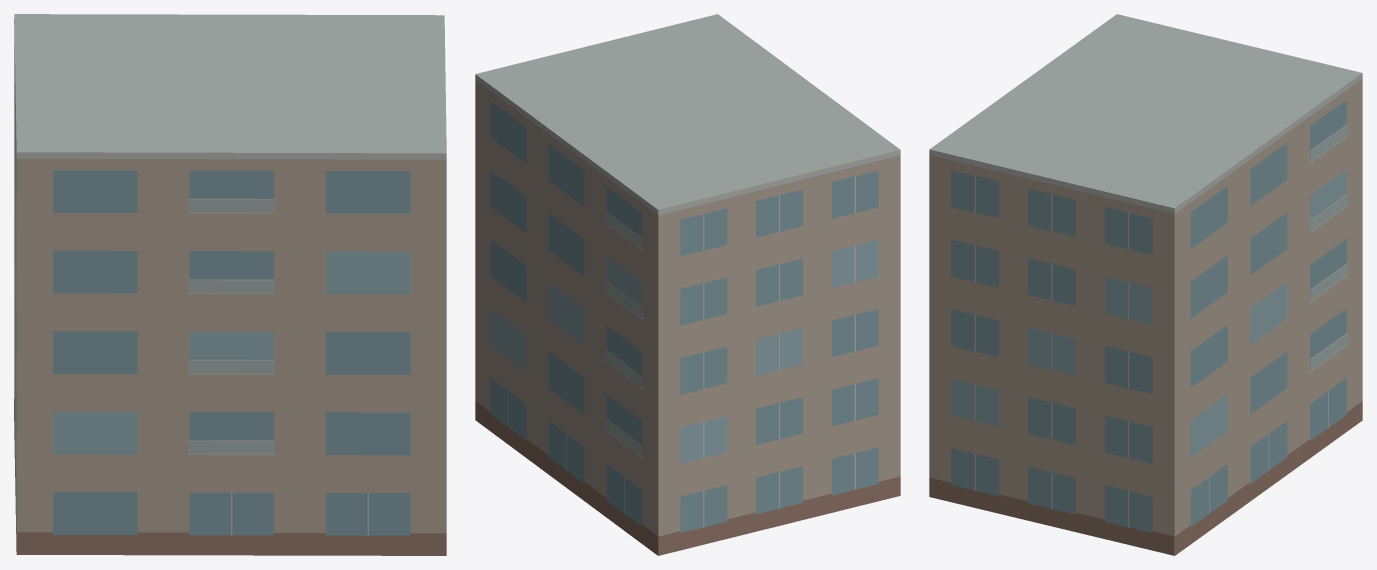
File: survey-upis-32925901.glb
The picture shows the model from 3 angles, left to right: view 1: azimuth 30°, elevation 25°; view 2: azimuth 150°, elevation 25°; view 3: azimuth 270°, elevation 25°; orthographic projection. The views are drawn at different scales.
Visible parts, largest first — view 1: survey-upis-32925901.tmp; view 2: survey-upis-32925901.tmp; view 3: survey-upis-32925901.tmp.
Boxes of the visible parts, <box> form: survey-upis-32925901.tmp: <box>14,14,446,555</box>; survey-upis-32925901.tmp: <box>475,14,900,555</box>; survey-upis-32925901.tmp: <box>929,14,1362,555</box>.
Size of the model in its own units: 18.3 by 15.25 by 17.24.
